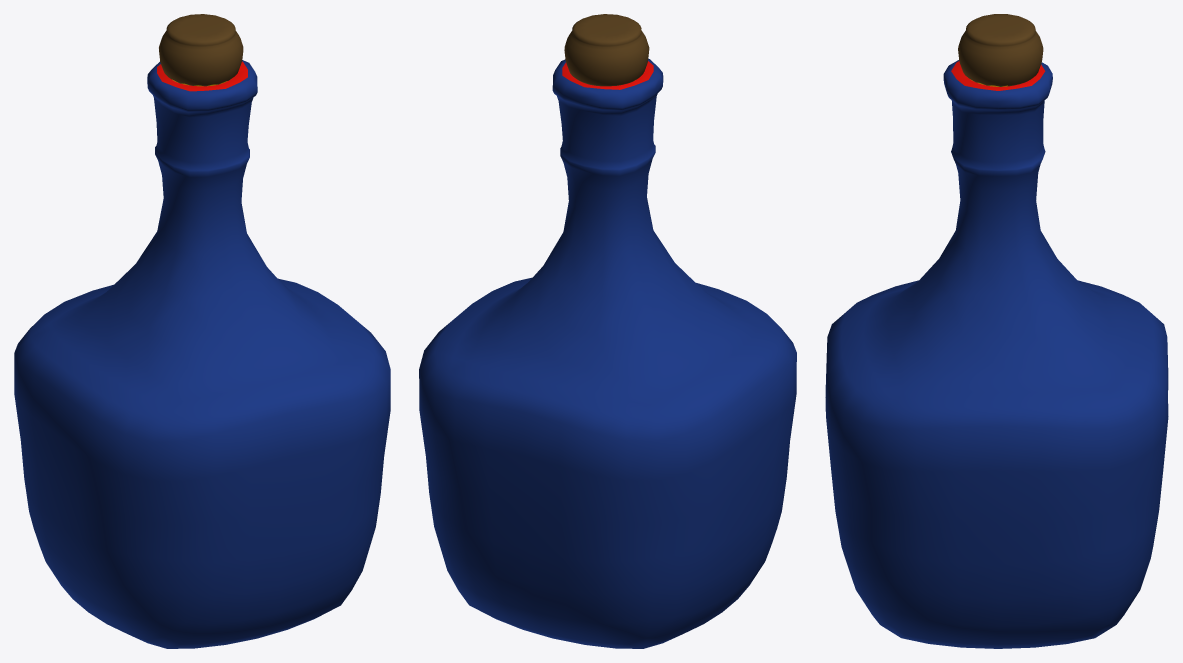
File: potion.fbx
The picture shows the model from 3 angles, left to right: view 1: azimuth 30°, elevation 25°; view 2: azimuth 150°, elevation 25°; view 3: azimuth 270°, elevation 25°; orthographic projection.
Parts seen in each view (by area): view 1: PotionA.001; view 2: PotionA.001; view 3: PotionA.001.
Boxes of the visible parts, x1=… form: PotionA.001: x1=14, y1=14, x2=390, y2=648; PotionA.001: x1=419, y1=14, x2=796, y2=648; PotionA.001: x1=825, y1=14, x2=1168, y2=648.
Size of the model in its own units: 73.04 by 136 by 71.87.
